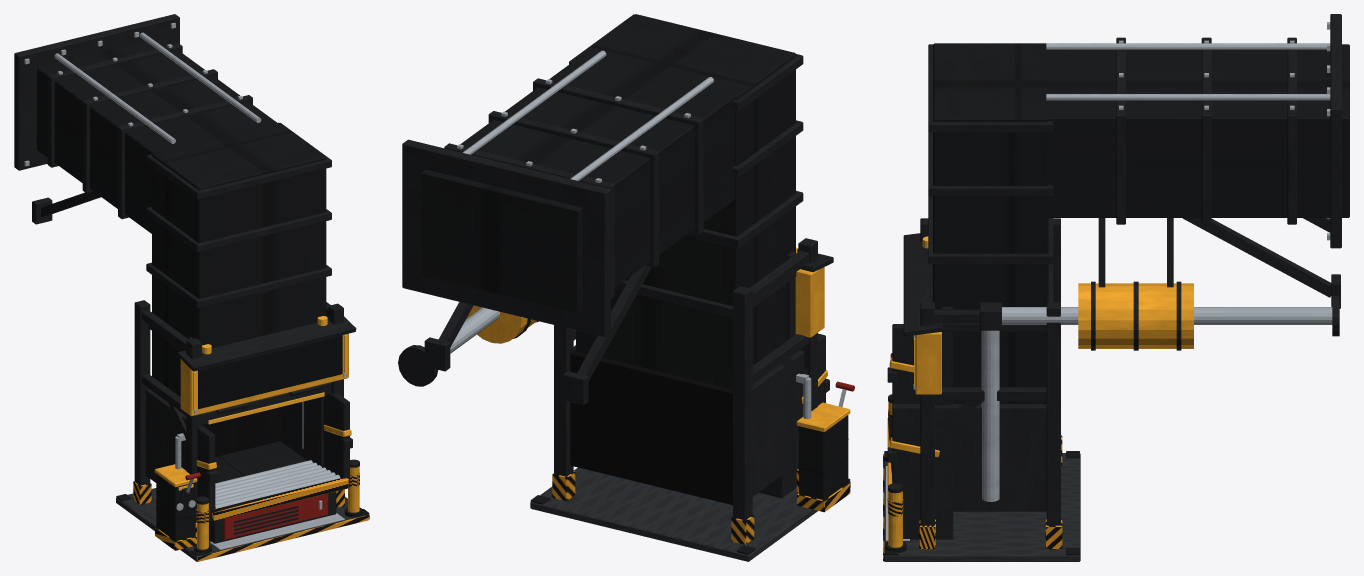
The model's file is BlenderReturnChute.fbx.
3 renders of one model, left to right at view 1: azimuth 30°, elevation 25°; view 2: azimuth 150°, elevation 25°; view 3: azimuth 270°, elevation 25°, orthographic. The views are drawn at different scales.
Visible parts, largest first — view 1: ReturnChute_Main, ReturnChute_StatusLights; view 2: ReturnChute_Main; view 3: ReturnChute_Main.
Boxes of the visible parts, box(x1,y1,x2,y2) form: ReturnChute_Main: box(14, 14, 369, 561); ReturnChute_StatusLights: box(178, 316, 347, 490); ReturnChute_Main: box(398, 14, 850, 561); ReturnChute_Main: box(883, 14, 1349, 561).
Size of the model in its own units: 12.61 by 23.2 by 21.84.
Materials: 1 (1 with a texture image).
